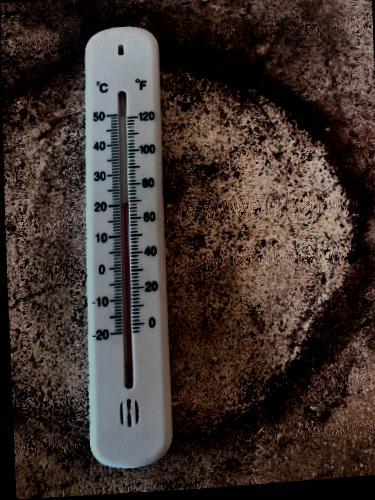thermo: (84, 27, 172, 468)
